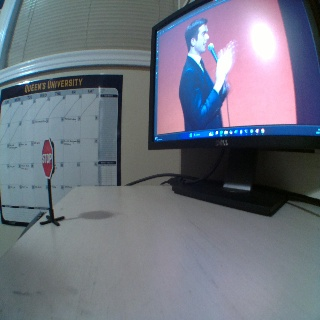sign_stop: (41, 139, 54, 177)
